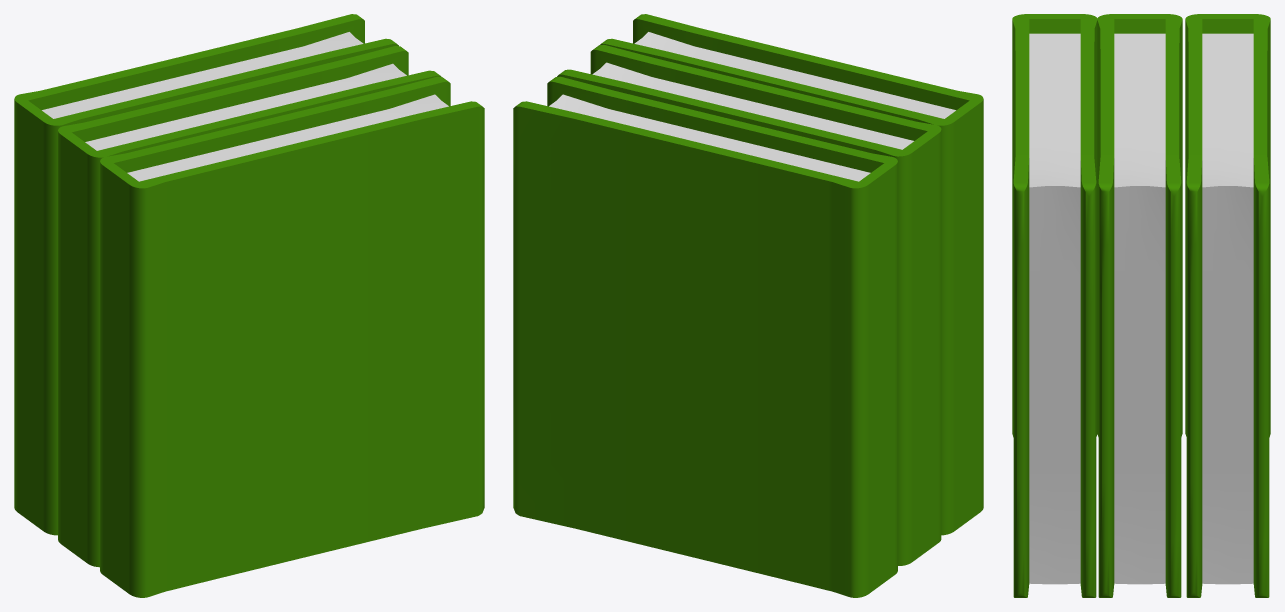
The model's file is book_green.fbx.
3 views of the same model, side by side, from view 1: azimuth 30°, elevation 25°; view 2: azimuth 150°, elevation 25°; view 3: azimuth 270°, elevation 25° (orthographic).
Parts seen in each view (by area): view 1: pCube1, pCube3, pCube2; view 2: pCube3, pCube2, pCube1; view 3: pCube1, pCube2, pCube3.
Boxes of the visible parts, x1,y1,x2,y2 form: pCube1: [100, 76, 484, 597]; pCube3: [14, 14, 398, 535]; pCube2: [58, 46, 441, 567]; pCube3: [513, 76, 897, 597]; pCube2: [557, 44, 941, 565]; pCube1: [599, 14, 983, 535]; pCube1: [1012, 14, 1097, 597]; pCube2: [1097, 14, 1182, 597]; pCube3: [1185, 14, 1270, 597].
Bounding box in the file's own units: 23.21 × 25.88 × 14.64.
